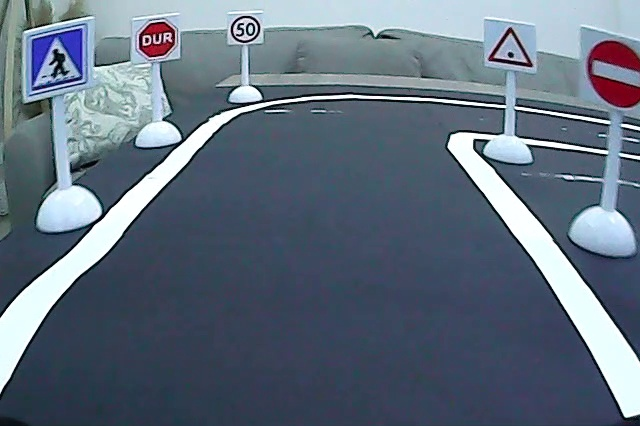do not enter: (581, 35, 640, 112)
green light: (484, 21, 536, 71)
pedestrian crossing: (26, 27, 89, 94)
speed limit 50: (229, 13, 261, 45)
stop sign: (135, 17, 180, 63)
